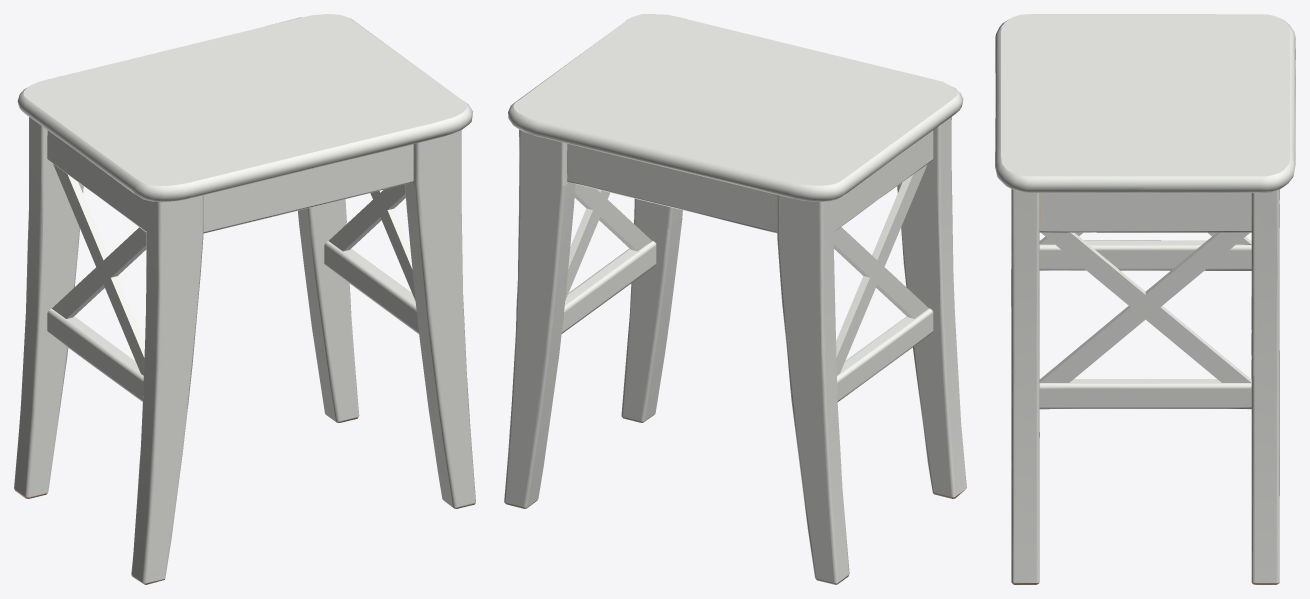
Rendered from rosentorp_stoek_10618191.glb.
3 renders of one model, left to right at view 1: azimuth 30°, elevation 25°; view 2: azimuth 150°, elevation 25°; view 3: azimuth 270°, elevation 25°, orthographic. The views are drawn at different scales.
Parts seen in each view (by area): view 1: rosentorp_stoek_10618191; view 2: rosentorp_stoek_10618191; view 3: rosentorp_stoek_10618191.
Part boxes in pixels (left/top/right/bottom): rosentorp_stoek_10618191: left=14, top=14, right=475, bottom=584; rosentorp_stoek_10618191: left=504, top=14, right=966, bottom=584; rosentorp_stoek_10618191: left=995, top=14, right=1295, bottom=584.
Bounding box in the file's own units: 0.3957 × 0.4495 × 0.3007.
Materials: 1 (1 with a texture image).
